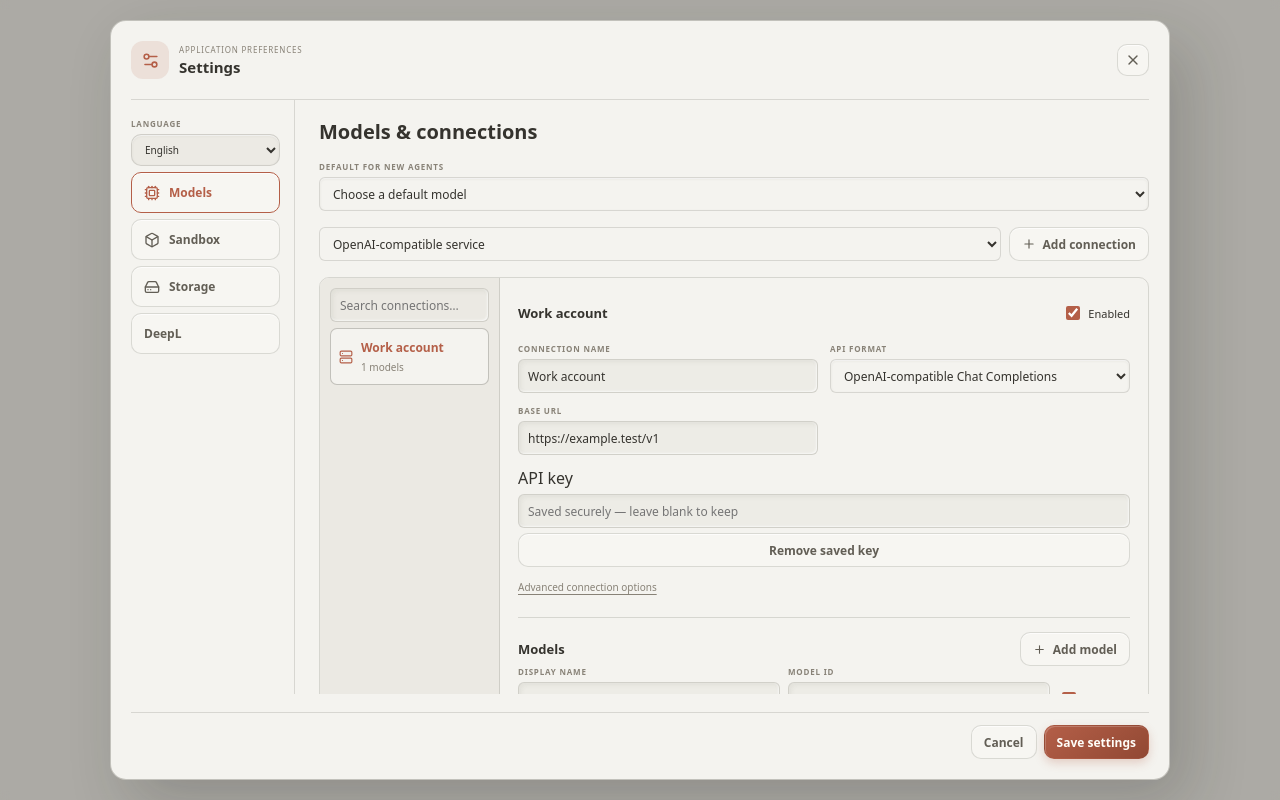
Test: Application settings › preserves a failed save and supports explicitly discarding a stale draft
The image size is (1280, 800).
Replace the text in the field labelled "Connection name" with "Unsaved name" at (668, 376), box [518,359,818,393]
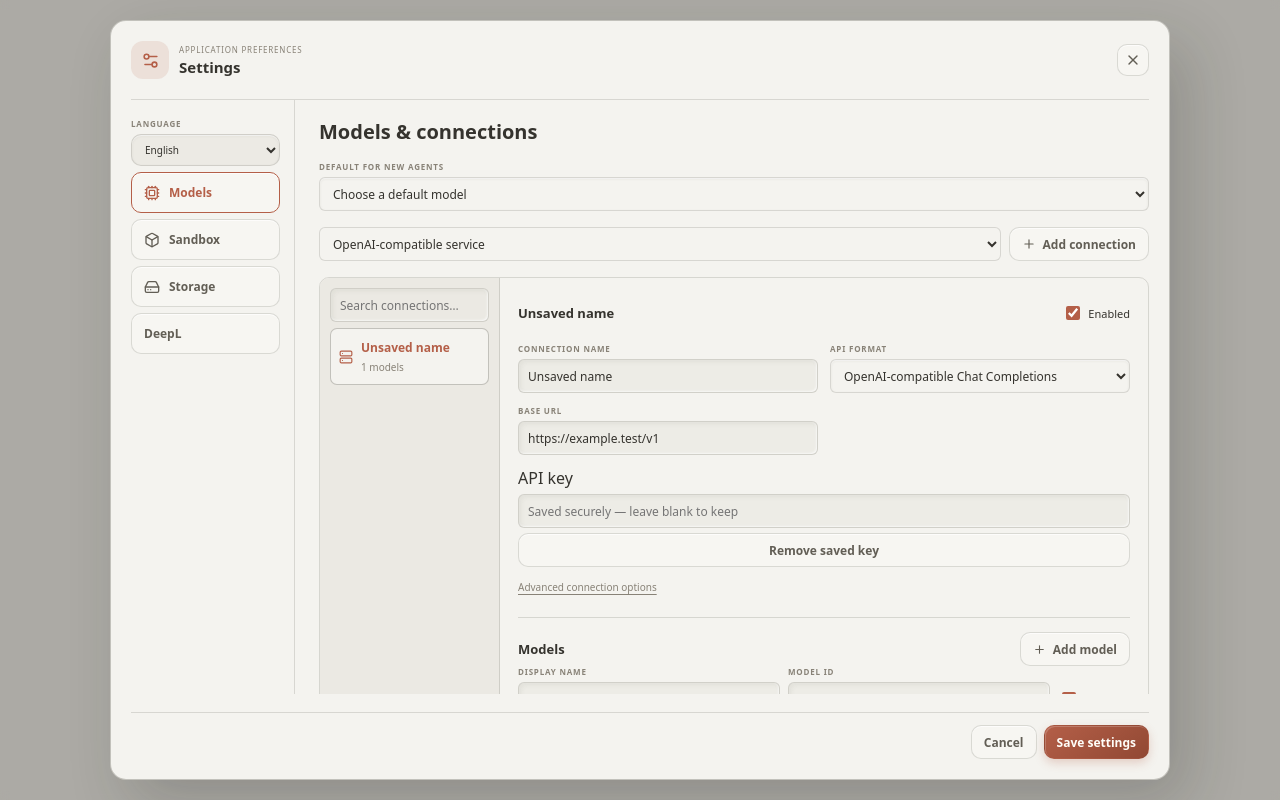
Click the button "Save settings" at (1096, 742), box [1044,725,1149,759]
(page scrolled)
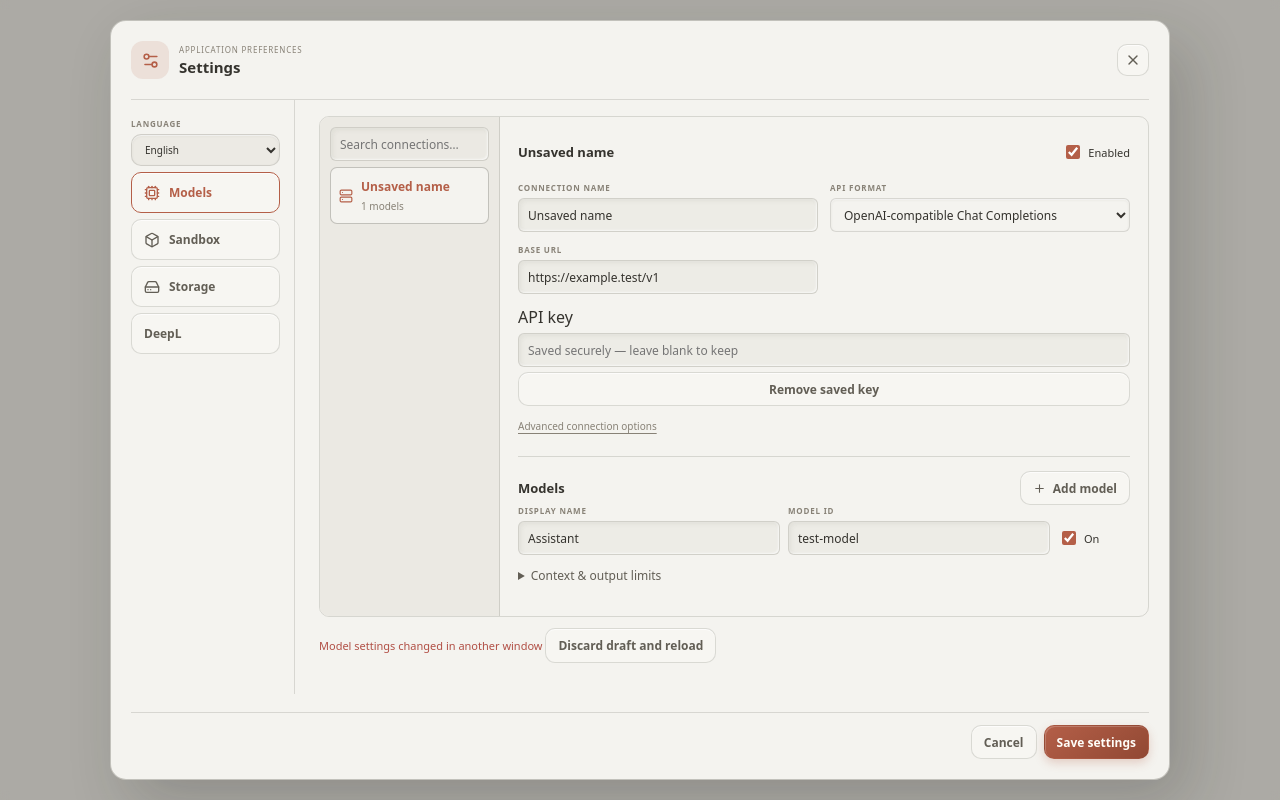
expect the message shows "another window": met, box [319,638,542,653]
Click the button "Discard draft and reload" at (631, 646), box [545,628,716,663]
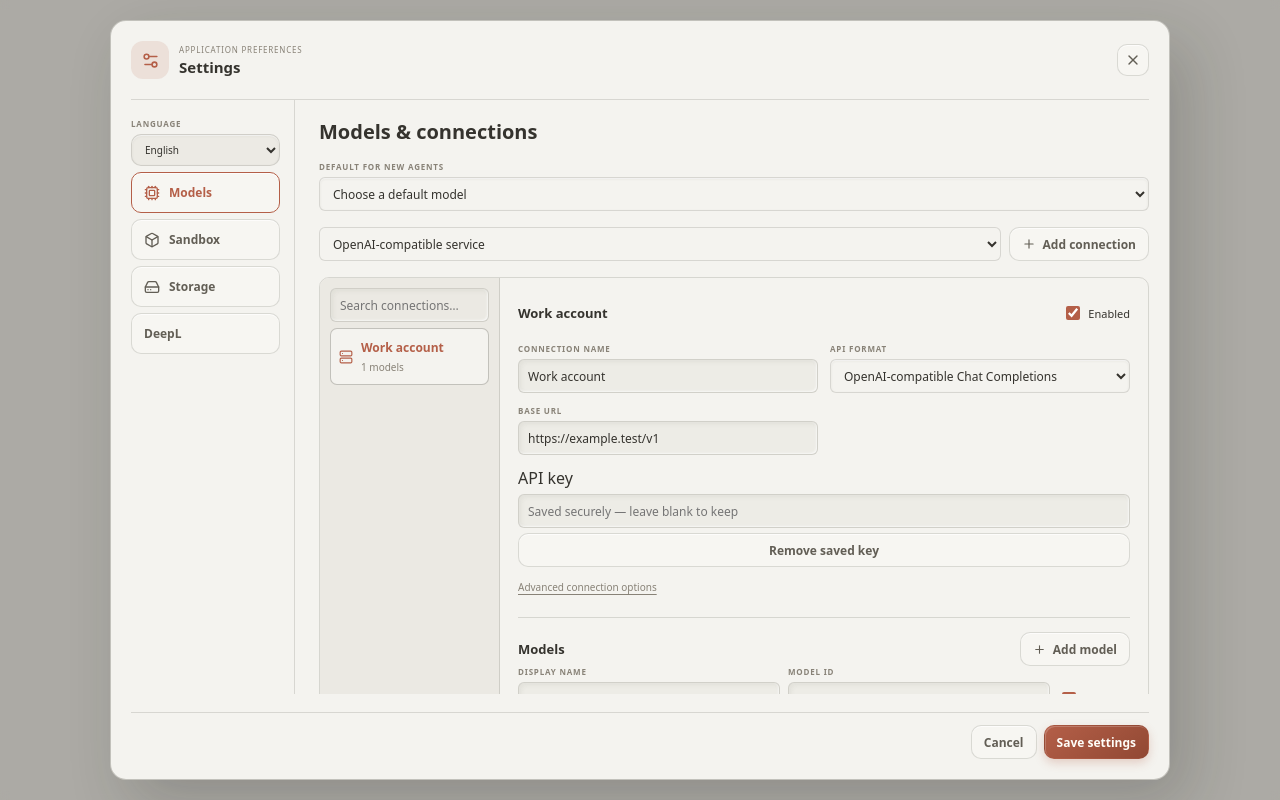
expect the field labelled "Connection name" holds "Work account": met, box [518,359,818,393]
